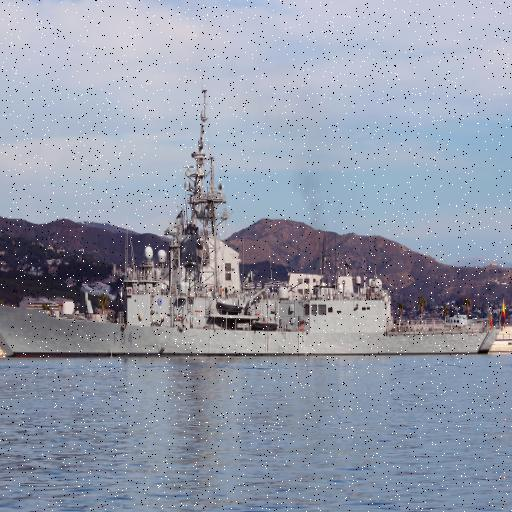Fragata: (1, 85, 507, 363)
